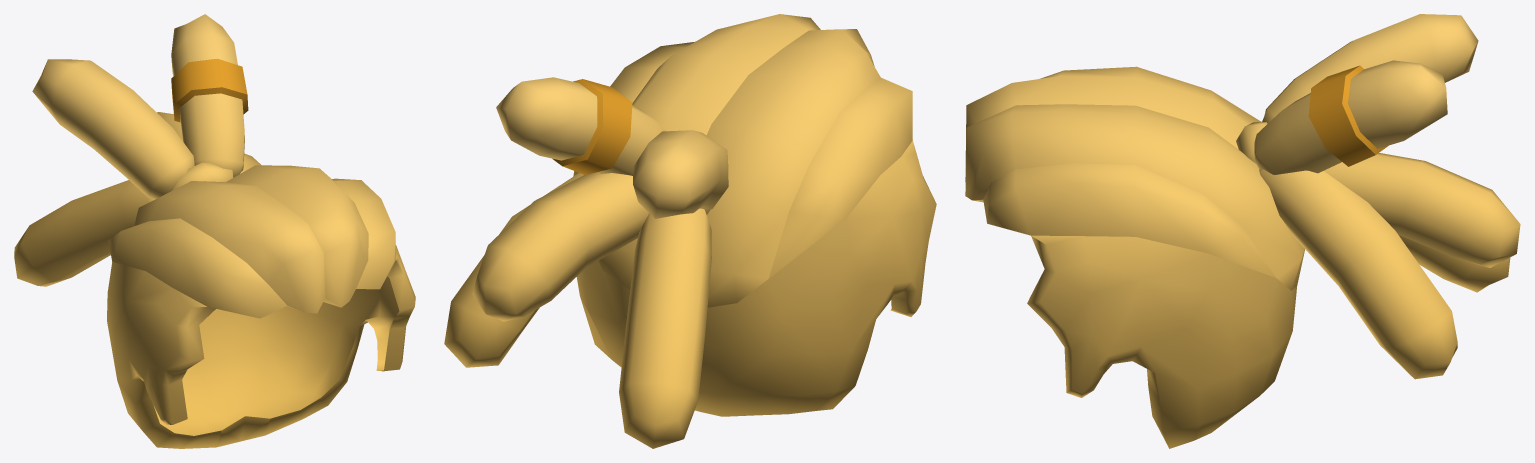
The model's file is Hair_Yellow_13.fbx.
3 views of the same model, side by side, from view 1: azimuth 30°, elevation 25°; view 2: azimuth 150°, elevation 25°; view 3: azimuth 270°, elevation 25° (orthographic). The views are drawn at different scales.
Visible parts, largest first — view 1: Hair_Yellow_13; view 2: Hair_Yellow_13; view 3: Hair_Yellow_13.
Part boxes in pixels (x1,y1,x2,y2): Hair_Yellow_13: (14, 14, 415, 448); Hair_Yellow_13: (444, 14, 936, 448); Hair_Yellow_13: (965, 14, 1520, 448).
Size of the model in its own units: 53.97 by 66.3 by 85.25.
